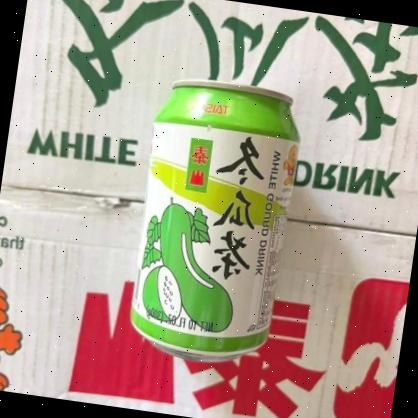can: (121, 71, 308, 370)
